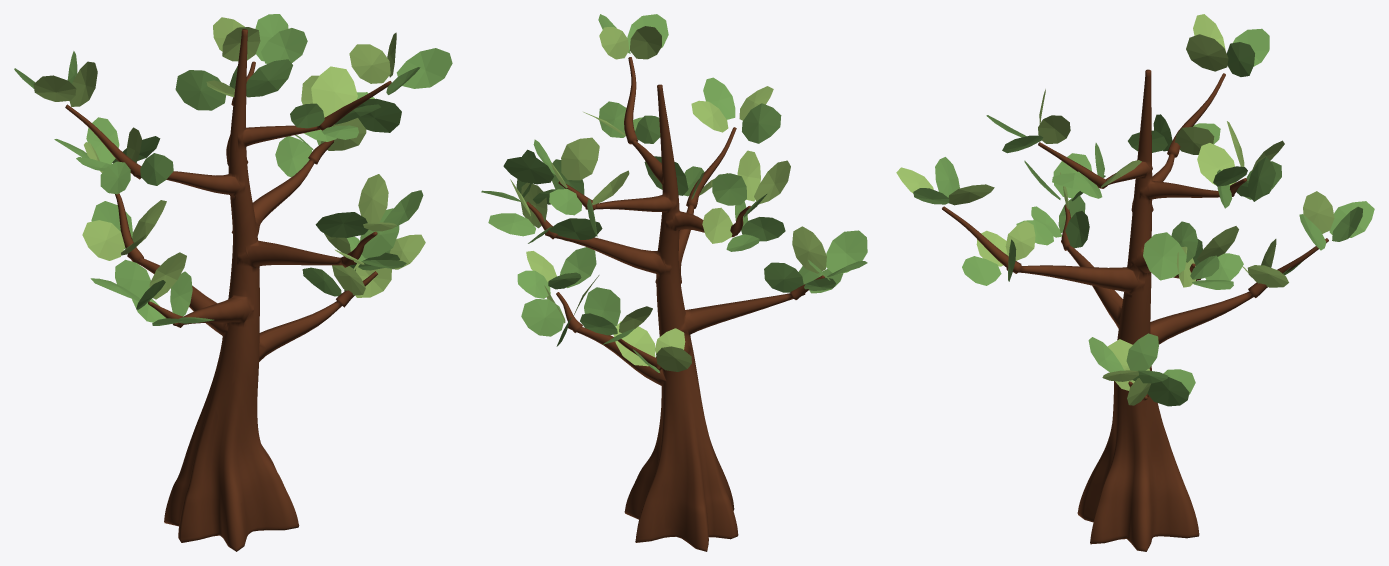
Rendered from Tree_Young_Upright_LOD2.fbx.
3 renders of one model, left to right at view 1: azimuth 30°, elevation 25°; view 2: azimuth 150°, elevation 25°; view 3: azimuth 270°, elevation 25°, orthographic. The views are drawn at different scales.
Visible parts, largest first — view 1: Tree_Young_Upright_Foliage_LOD2_FBX_Triangulated, Tree_Young_Upright_Bark_LOD2_FBX_Triangulated; view 2: Tree_Young_Upright_Foliage_LOD2_FBX_Triangulated, Tree_Young_Upright_Bark_LOD2_FBX_Triangulated; view 3: Tree_Young_Upright_Foliage_LOD2_FBX_Triangulated, Tree_Young_Upright_Bark_LOD2_FBX_Triangulated.
Part boxes in pixels (x1,y1,x2,y2): Tree_Young_Upright_Foliage_LOD2_FBX_Triangulated: [14, 14, 452, 325]; Tree_Young_Upright_Bark_LOD2_FBX_Triangulated: [65, 29, 391, 551]; Tree_Young_Upright_Foliage_LOD2_FBX_Triangulated: [481, 14, 867, 372]; Tree_Young_Upright_Bark_LOD2_FBX_Triangulated: [526, 57, 824, 551]; Tree_Young_Upright_Foliage_LOD2_FBX_Triangulated: [896, 14, 1374, 406]; Tree_Young_Upright_Bark_LOD2_FBX_Triangulated: [942, 69, 1328, 551].
Size of the model in its own units: 3.32 by 4.47 by 4.05.
